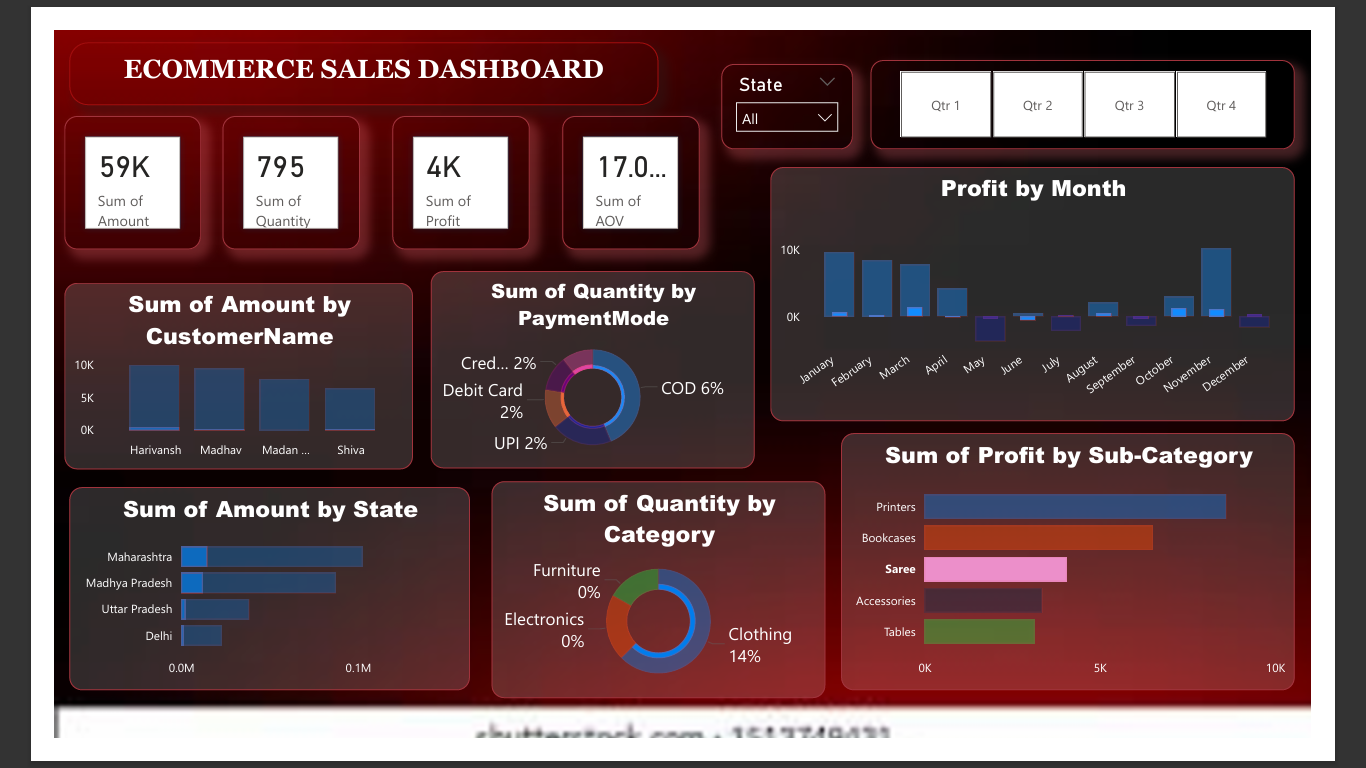

The page's visual inventory and layout, read from the dashboard file:
{"tool":"powerbi","page":{"name":"Page 1","canvas":[1280,720],"ordinal":0},"visuals":[{"type":"textbox","box":[15.1,11.8,599.7,63.8],"z":0},{"type":"columnChart","title":" Profit by Month","fields":{"Category":["Orders.Order Date.Variation.Date Hierarchy.Month"],"Y":["Details.Profit"]},"box":[729,139.4,534.2,258.7],"z":1000},{"type":"barChart","fields":{"Category":["Details.Sub-Category"],"Y":["Details.Profit"]},"box":[801.3,409.9,461.9,262],"z":2000},{"type":"donutChart","fields":{"Category":["Details.Category"],"Y":["Details.Quantity"]},"box":[445,459.2,340.2,221.1],"z":3000},{"type":"donutChart","fields":{"Y":["Details.Quantity"],"Category":["Details.PaymentMode"]},"box":[382.7,245.2,330.2,201.3],"z":4000},{"type":"cardVisual","fields":{"Data":["Details.Amount"]},"box":[10.1,87.3,139,136.1],"z":5000},{"type":"cardVisual","fields":{"Data":["Details.Quantity"]},"box":[171.3,87.3,139.4,136.1],"z":6000},{"type":"cardVisual","fields":{"Data":["Details.Profit"]},"box":[344.4,87.3,139.4,136.1],"z":7000},{"type":"cardVisual","fields":{"Data":["Details.AOV"]},"box":[517.4,87.3,139.4,136.1],"z":8000},{"type":"barChart","fields":{"Category":["Orders.State"],"Y":["Details.Amount"]},"box":[15.1,465.3,408.2,206.6],"z":9000},{"type":"columnChart","fields":{"Category":["Orders.CustomerName"],"Y":["Details.Amount"]},"box":[10.1,257,354.4,189.8],"z":10000},{"type":"slicer","fields":{"Values":["Orders.Order Date.Variation.Date Hierarchy.Quarter"]},"box":[831.5,30.2,431.7,90.7],"z":11000},{"type":"slicer","fields":{"Values":["Orders.State"]},"box":[678.6,33.6,134.4,87.3],"z":12000}]}

Visuals, with their boxes in screenshot pixels (x1, y1, x2, y2), scaled from the page's 1280x720 canvas onto the 1366x768 screenshot:
textbox: BBox(16, 13, 656, 81)
" Profit by Month" columnChart: BBox(778, 149, 1348, 425)
barChart - Details.Sub-Category x Details.Profit: BBox(855, 437, 1348, 717)
donutChart - Details.Category x Details.Quantity: BBox(475, 490, 838, 726)
donutChart - Details.Quantity x Details.PaymentMode: BBox(408, 262, 761, 476)
cardVisual - Details.Amount: BBox(11, 93, 159, 238)
cardVisual - Details.Quantity: BBox(183, 93, 332, 238)
cardVisual - Details.Profit: BBox(368, 93, 516, 238)
cardVisual - Details.AOV: BBox(552, 93, 701, 238)
barChart - Orders.State x Details.Amount: BBox(16, 496, 452, 717)
columnChart - Orders.CustomerName x Details.Amount: BBox(11, 274, 389, 477)
slicer - Orders.Order Date.Variation.Date Hierarchy.Quarter: BBox(887, 32, 1348, 129)
slicer - Orders.State: BBox(724, 36, 868, 129)
